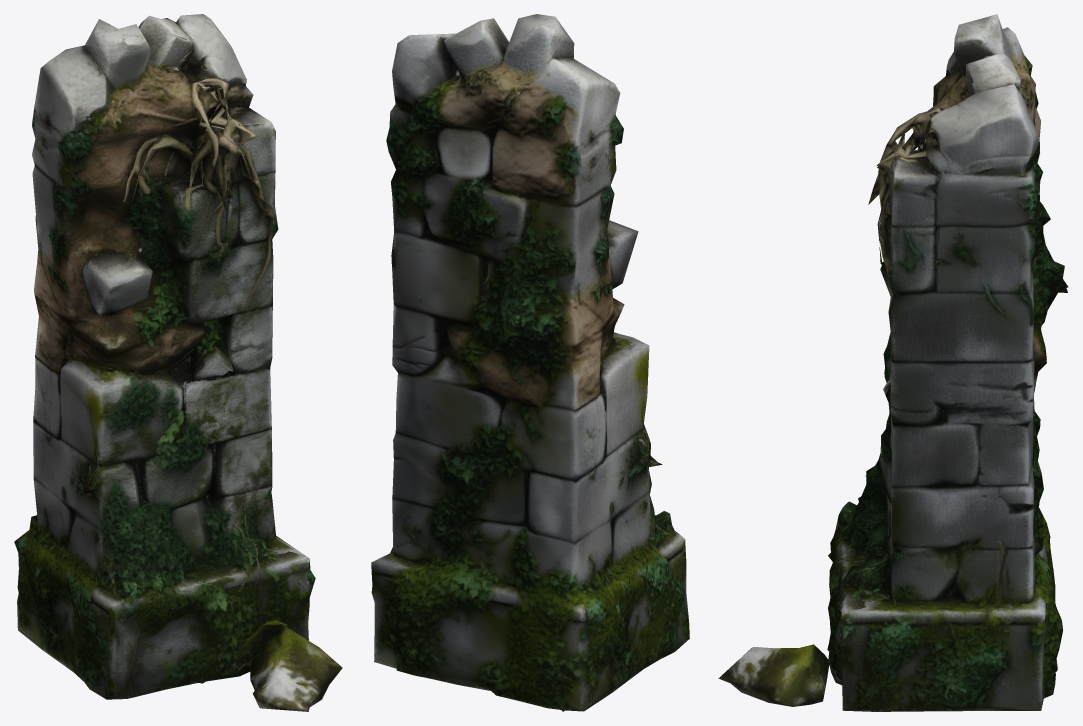
File: Meshy_AI_Cementery_Pillar_Vari_1016111156_texture.fbx
The picture shows the model from 3 angles, left to right: view 1: azimuth 30°, elevation 25°; view 2: azimuth 150°, elevation 25°; view 3: azimuth 270°, elevation 25°; orthographic projection. The views are drawn at different scales.
Parts seen in each view (by area): view 1: Mesh1.0; view 2: Mesh1.0; view 3: Mesh1.0.
Part boxes in pixels (x1=…): Mesh1.0: x1=14, y1=14, x2=342, y2=711; Mesh1.0: x1=371, y1=14, x2=689, y2=711; Mesh1.0: x1=718, y1=14, x2=1068, y2=711.
Size of the model in its own units: 70.98 by 194 by 97.56.
1 material, 1 textured.
